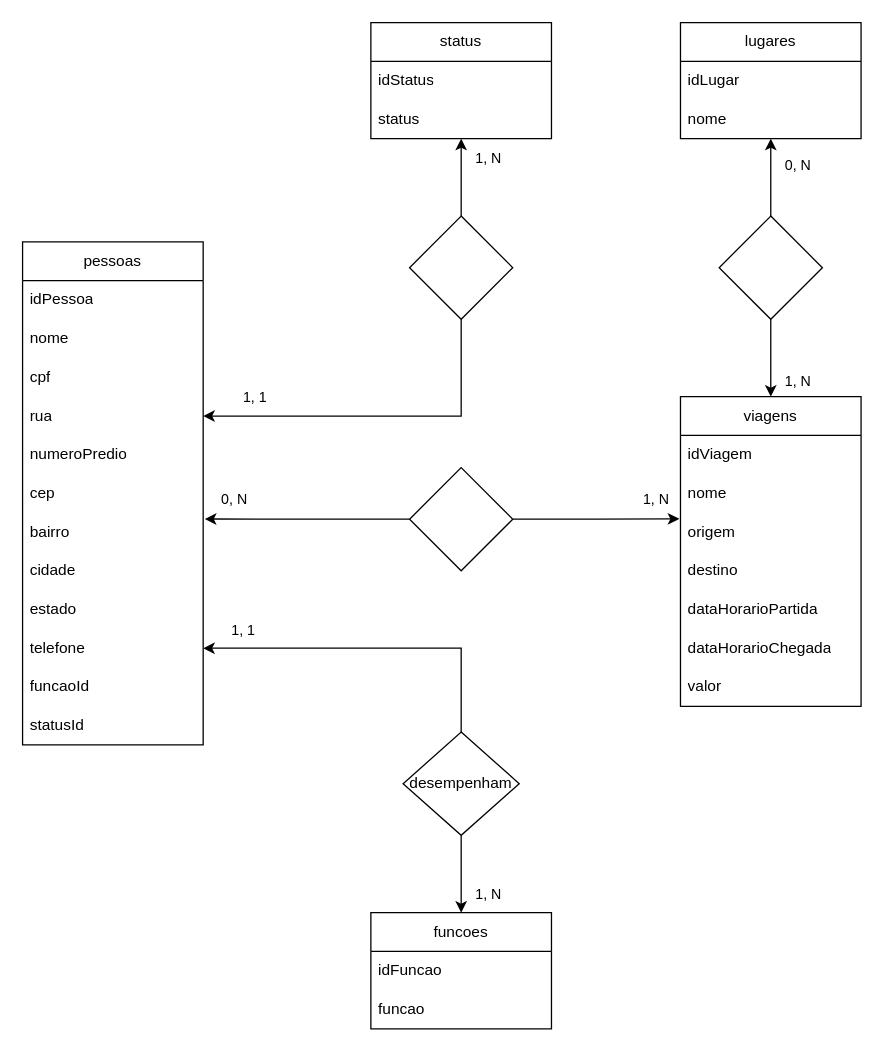
The diagram is 884 pixels wide and 1051 high, and some of its shapes have lost their labels. The shapes that lost their labels are listed below. From the top down, each one's centre as x and y in pixels, then its label:
At (460,267): "tem".
At (770,267): "pertencem".
At (460,518): "marcam".
